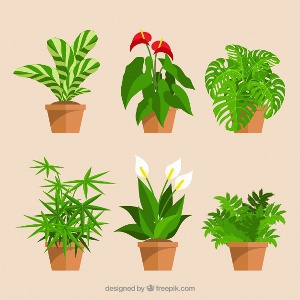flowerpot: (135, 95, 182, 135), (134, 236, 181, 274), (224, 97, 269, 136), (223, 238, 273, 273), (41, 237, 88, 274), (43, 101, 88, 135)
